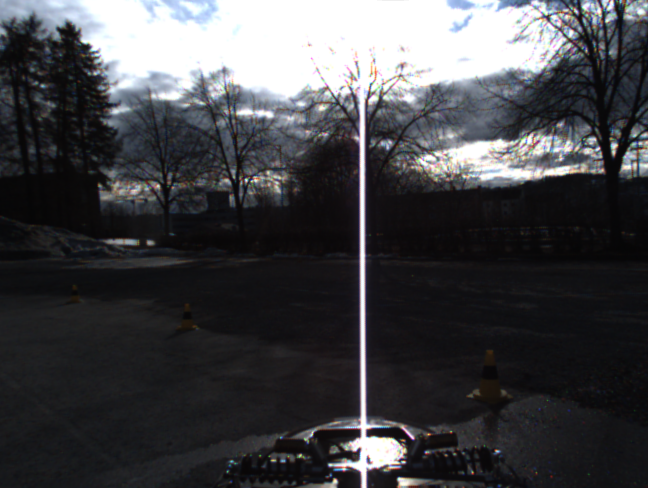cone-small-yellow: (465, 350, 512, 401), (175, 304, 199, 330), (66, 284, 83, 304)
